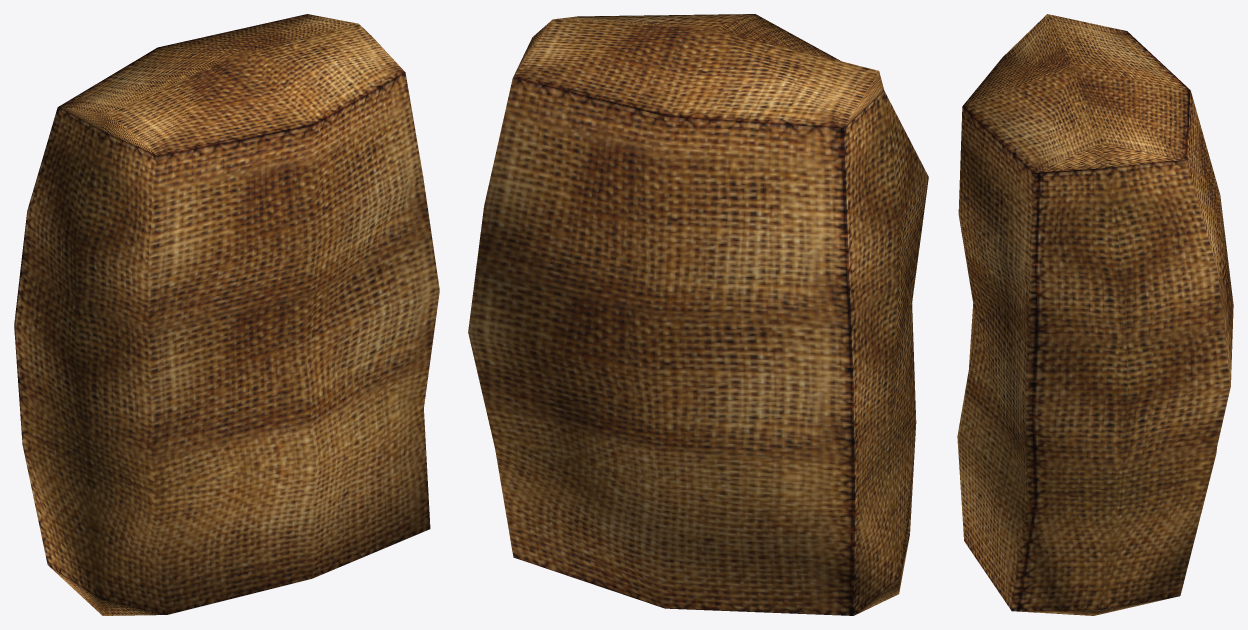
File: sand bag.fbx
The picture shows the model from 3 angles, left to right: view 1: azimuth 30°, elevation 25°; view 2: azimuth 150°, elevation 25°; view 3: azimuth 270°, elevation 25°; orthographic projection. The views are drawn at different scales.
Visible parts, largest first — view 1: Object04_0; view 2: Object04_0; view 3: Object04_0.
Boxes of the visible parts, x1,y1,x2,y2 form: Object04_0: (14, 14, 439, 615); Object04_0: (468, 14, 928, 615); Object04_0: (957, 14, 1233, 615).
Size of the model in its own units: 47.88 by 67.41 by 33.72.
